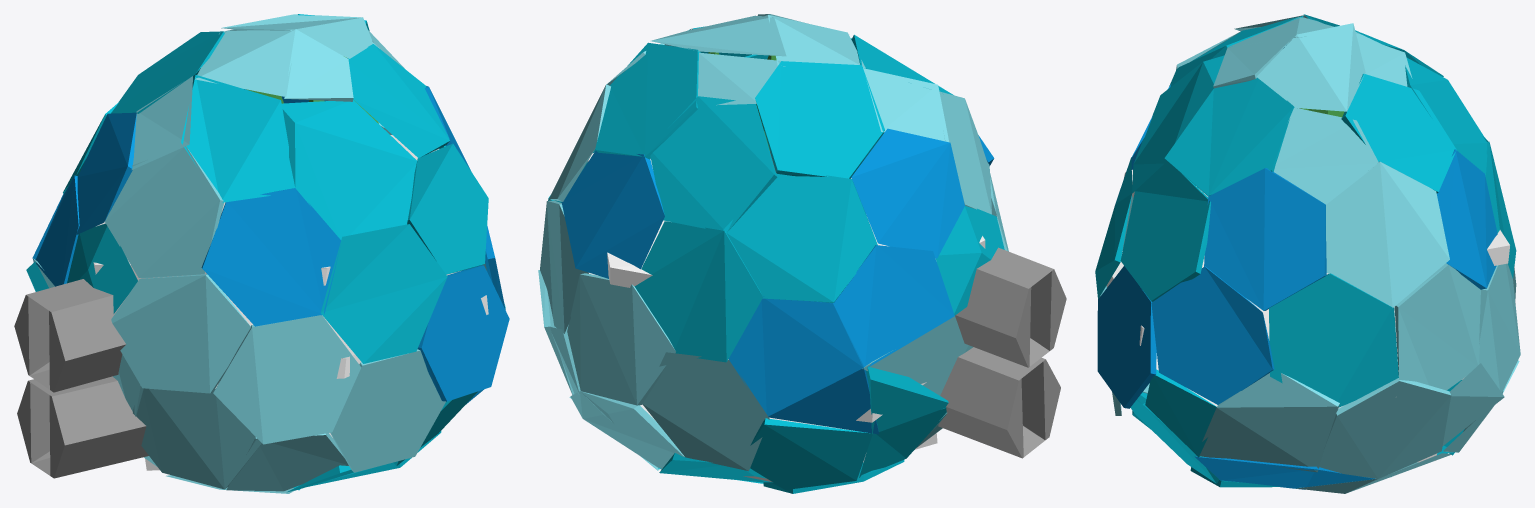
3 views of the same model, side by side, from view 1: azimuth 30°, elevation 25°; view 2: azimuth 150°, elevation 25°; view 3: azimuth 270°, elevation 25° (orthographic).
Parts seen in each view (by area): view 1: mesh_1646262904, mesh_2142612782, mesh_1657941630, mesh_637472190, mesh_878803505, mesh_1137780449, mesh_475682493, group_1765537148, group_162092783, mesh_270197840, mesh_912152346, mesh_206065118 (+16 smaller); view 2: mesh_1262868879, mesh_739581008, mesh_507097967, mesh_628322953, mesh_640030479, mesh_239696688, mesh_1988479376, mesh_1964649481, group_1765537148, mesh_1343915685, mesh_1378352409, group_162092783 (+20 smaller); view 3: mesh_1958264831, mesh_696284556, mesh_1720375002, mesh_701476202, mesh_2117092618, mesh_2022395217, mesh_1164487821, mesh_1673745535, mesh_1207448314, mesh_637970480, mesh_1660989027, mesh_783688994 (+18 smaller).
Boxes of the visible parts, x1,y1,x2,y2 form: mesh_1646262904: [201, 188, 340, 326]; mesh_2142612782: [281, 100, 416, 239]; mesh_1657941630: [213, 315, 361, 444]; mesh_637472190: [320, 224, 447, 363]; mesh_878803505: [111, 274, 250, 393]; mesh_1137780449: [105, 146, 224, 278]; mesh_475682493: [181, 75, 295, 202]; group_1765537148: [17, 376, 148, 478]; group_162092783: [14, 279, 126, 392]; mesh_270197840: [330, 349, 445, 472]; mesh_912152346: [133, 388, 261, 489]; mesh_206065118: [417, 265, 509, 401]; mesh_1262868879: [723, 173, 877, 302]; mesh_739581008: [729, 296, 879, 434]; mesh_507097967: [650, 96, 777, 231]; mesh_628322953: [634, 221, 762, 362]; mesh_640030479: [755, 61, 884, 178]; mesh_239696688: [851, 128, 964, 258]; mesh_1988479376: [642, 352, 769, 471]; mesh_1964649481: [567, 273, 675, 405]; group_1765537148: [938, 347, 1060, 458]; mesh_1343915685: [833, 245, 954, 368]; mesh_1378352409: [561, 151, 664, 278]; group_162092783: [955, 247, 1066, 367]; mesh_1958264831: [1204, 168, 1326, 310]; mesh_696284556: [1326, 161, 1449, 307]; mesh_1720375002: [1269, 273, 1398, 407]; mesh_701476202: [1151, 266, 1274, 404]; mesh_2117092618: [1164, 77, 1294, 196]; mesh_2022395217: [1319, 378, 1451, 478]; mesh_1164487821: [1196, 373, 1339, 472]; mesh_1673745535: [1120, 161, 1210, 301]; mesh_1207448314: [1394, 263, 1480, 390]; mesh_637970480: [1341, 73, 1456, 193]; mesh_1660989027: [1256, 23, 1365, 111]; mesh_783688994: [1274, 107, 1378, 204].
Size of the model in its own units: 28.69 by 26.26 by 23.48.
